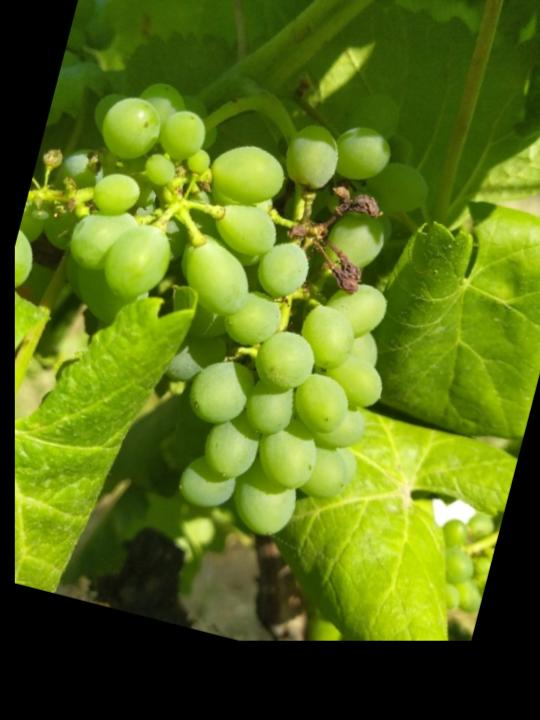grape: (0, 0, 458, 565)
